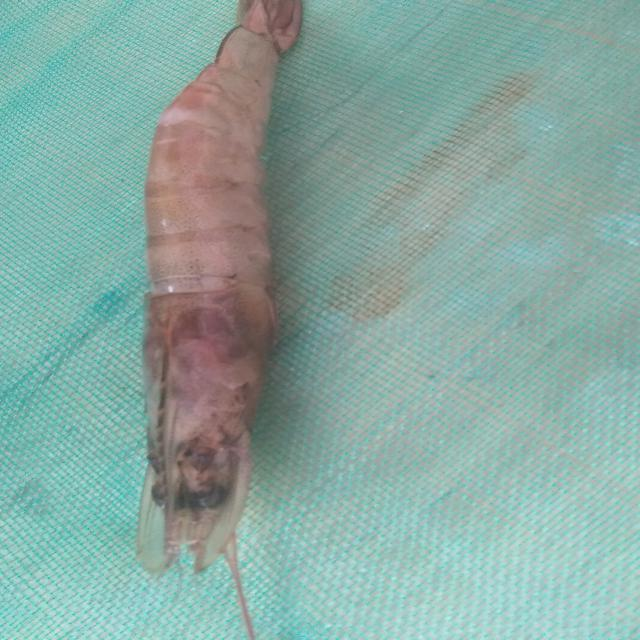shrimp: (138, 0, 302, 618)
